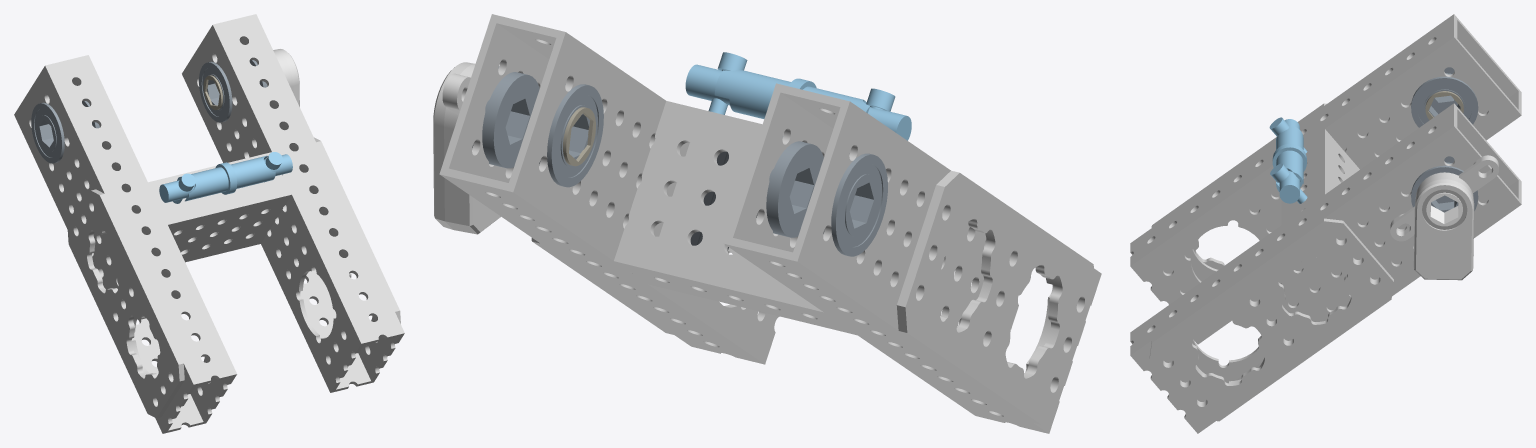
3 renders of one model, left to right at view 1: azimuth 30°, elevation 25°; view 2: azimuth 150°, elevation 25°; view 3: azimuth 270°, elevation 25°, orthographic. The views are drawn at different scales.
Visible parts, largest first — view 1: 2x1 Tube Stock (Conf.) (×3), MAX Pattern Plate (×2), .5" Hex ID 1.125" OD Flanged Bearing (217-2734) (×2), Part 1 (×3), id70; view 2: 2x1 Tube Stock (Conf.) (×3), MAX Pattern Plate (×2), .5" Hex ID 1.125" OD Flanged Bearing (217-2734) (×4), Part 1 (×3), id70, Pulley Hex Spacer; view 3: 2x1 Tube Stock (Conf.) (×3), MAX Pattern Plate (×2), id70, .5" Hex ID 1.125" OD Flanged Bearing (217-2734) (×2), Part 1 (×3).
Part boxes in pixels (x1,y1,x2,y2): 2x1 Tube Stock (Conf.) (×3): (14, 14, 404, 433); MAX Pattern Plate (×2): (67, 137, 400, 418); .5" Hex ID 1.125" OD Flanged Bearing (217-2734) (×2): (31, 61, 236, 163); Part 1 (×3): (159, 154, 292, 202); id70: (273, 49, 299, 106); 2x1 Tube Stock (Conf.) (×3): (439, 14, 1101, 433); MAX Pattern Plate (×2): (531, 170, 1095, 424); .5" Hex ID 1.125" OD Flanged Bearing (217-2734) (×4): (472, 66, 887, 256); Part 1 (×3): (685, 52, 911, 140); id70: (433, 62, 506, 234); Pulley Hex Spacer: (563, 107, 595, 166); 2x1 Tube Stock (Conf.) (×3): (1130, 14, 1521, 433); MAX Pattern Plate (×2): (1149, 103, 1393, 421); id70: (1390, 155, 1498, 280); .5" Hex ID 1.125" OD Flanged Bearing (217-2734) (×2): (1411, 73, 1478, 212); Part 1 (×3): (1276, 119, 1303, 203).
Size of the model in its own units: 0.1414 by 0.1572 by 0.1812.
